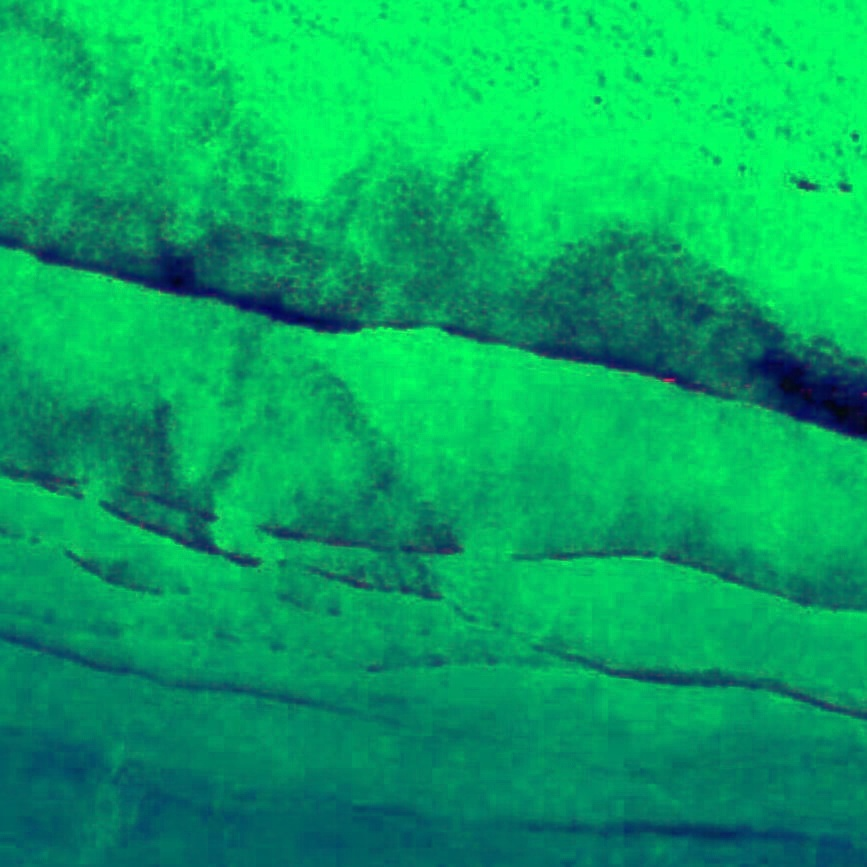rip_current: (312, 252, 580, 656)
